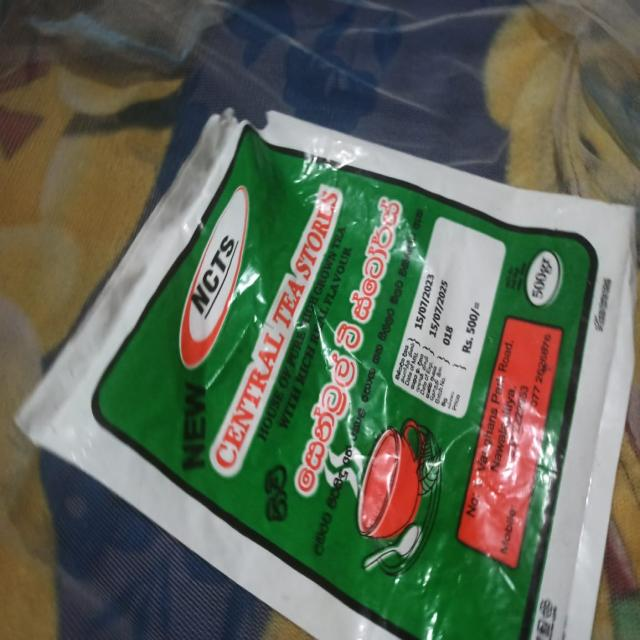Central Tea: (118, 57, 638, 640)
